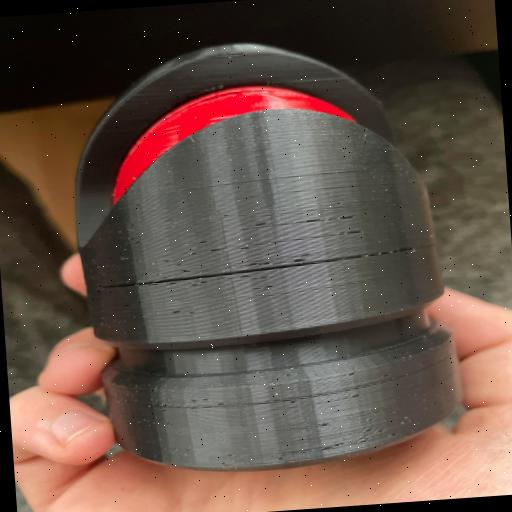cracks: (126, 346, 454, 424), (92, 235, 442, 301)
